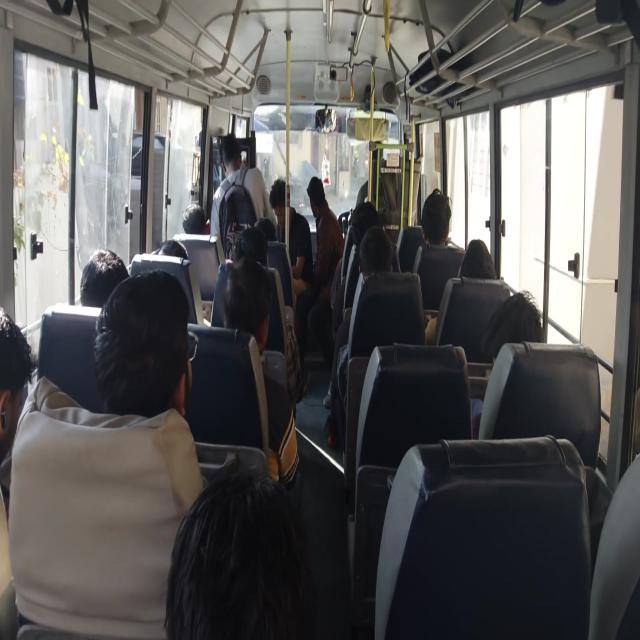person: (8, 268, 204, 638), (164, 453, 312, 639), (221, 256, 300, 487), (324, 225, 394, 450), (93, 268, 193, 418), (0, 306, 36, 638), (470, 289, 543, 438), (296, 176, 344, 362), (210, 132, 276, 258), (425, 238, 496, 345), (411, 188, 465, 311), (268, 177, 312, 296), (480, 289, 543, 363), (80, 248, 130, 308), (419, 188, 464, 252), (459, 238, 496, 280), (231, 226, 268, 267), (182, 202, 208, 234), (153, 238, 188, 258)
